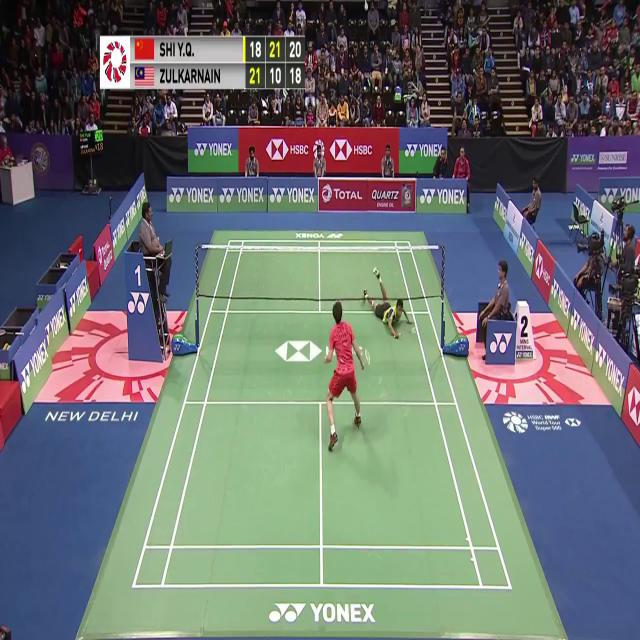Shuttlecock: (363, 0, 370, 11)
